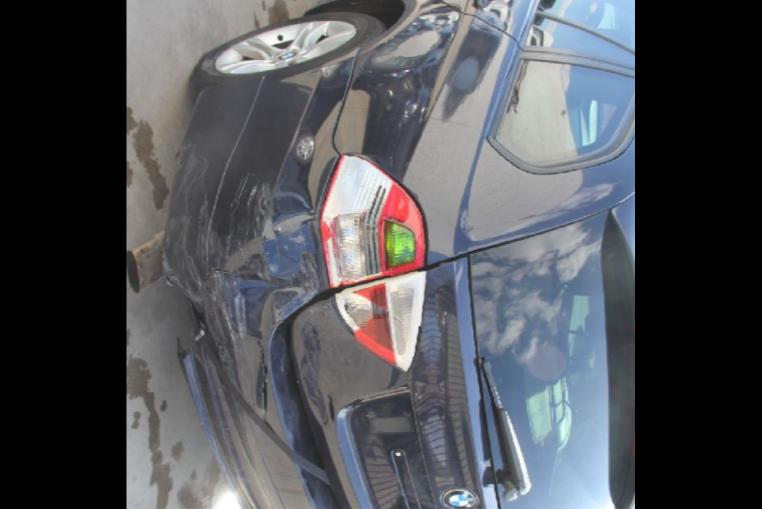Broken part: (160, 242, 211, 354), (247, 294, 278, 438)
Cracked: (322, 152, 428, 374)
Dent: (164, 156, 330, 452), (290, 294, 428, 436)
Scratch: (199, 268, 247, 366), (290, 248, 322, 302), (250, 180, 276, 240), (228, 168, 254, 210), (232, 218, 252, 262), (195, 192, 210, 244), (180, 254, 202, 288), (203, 222, 222, 258), (178, 216, 190, 252), (262, 250, 276, 272), (246, 182, 258, 206), (290, 234, 306, 252), (226, 228, 234, 252)
